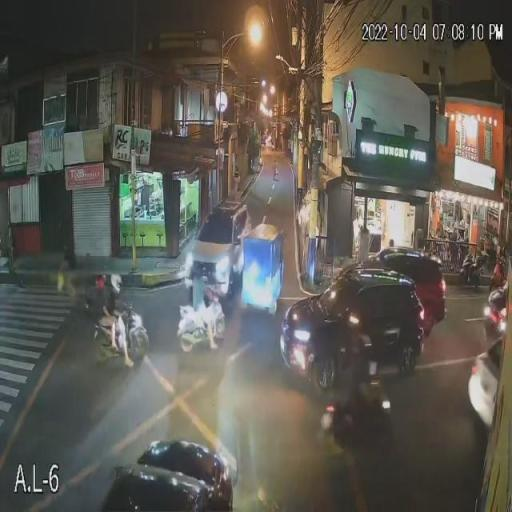helmet: (356, 335, 376, 368), (92, 271, 110, 292), (191, 260, 208, 279), (108, 272, 124, 292)
motorcycle: (312, 384, 403, 450), (88, 315, 152, 358), (176, 306, 229, 352)
rider: (192, 276, 218, 350), (108, 298, 135, 368), (348, 361, 380, 420), (94, 296, 119, 351)
